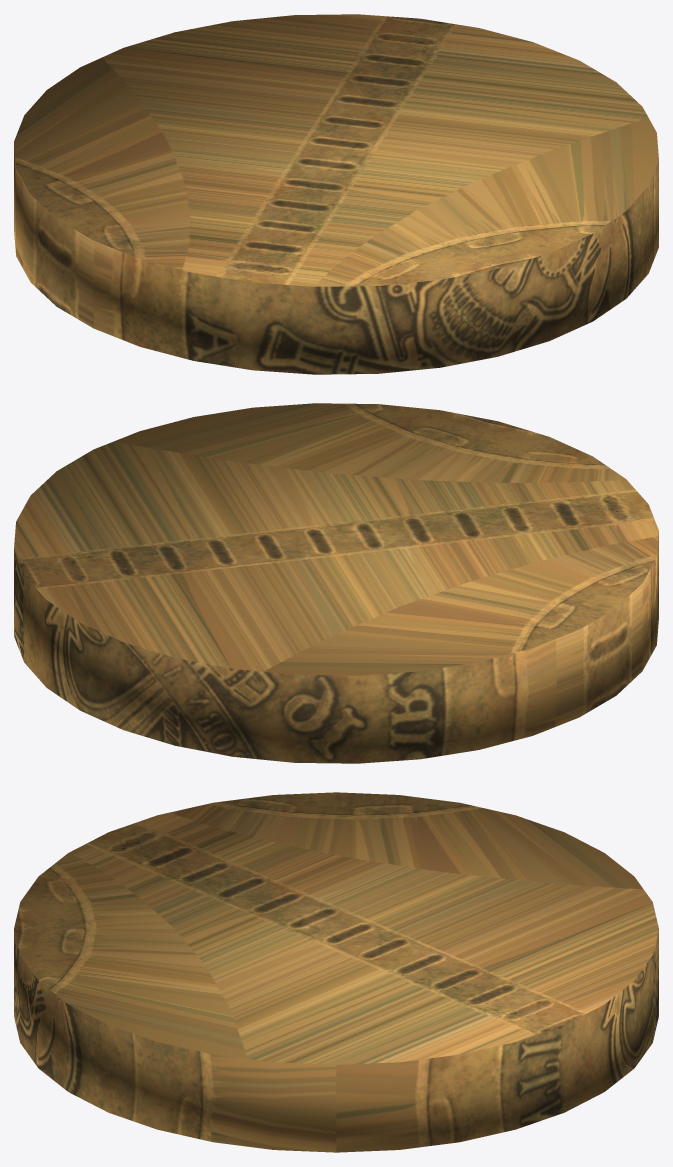
Rendered from PirateCoin.obj.
3 renders of one model, top to bottom at view 1: azimuth 30°, elevation 25°; view 2: azimuth 150°, elevation 25°; view 3: azimuth 270°, elevation 25°, orthographic.
Visible parts, largest first — view 1: Cylinder001; view 2: Cylinder001; view 3: Cylinder001.
Boxes of the visible parts, x1,y1,x2,y2 form: Cylinder001: (14,14,658,374); Cylinder001: (14,403,658,763); Cylinder001: (14,792,658,1152).
Bounding box in the file's own units: 0.044 × 0.0066 × 0.044.
Materials: 1 (1 with a texture image).
